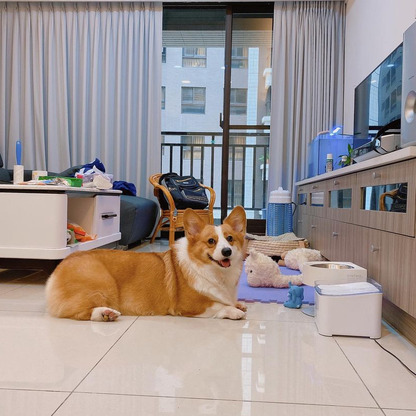Corgi: (37, 189, 284, 341)
